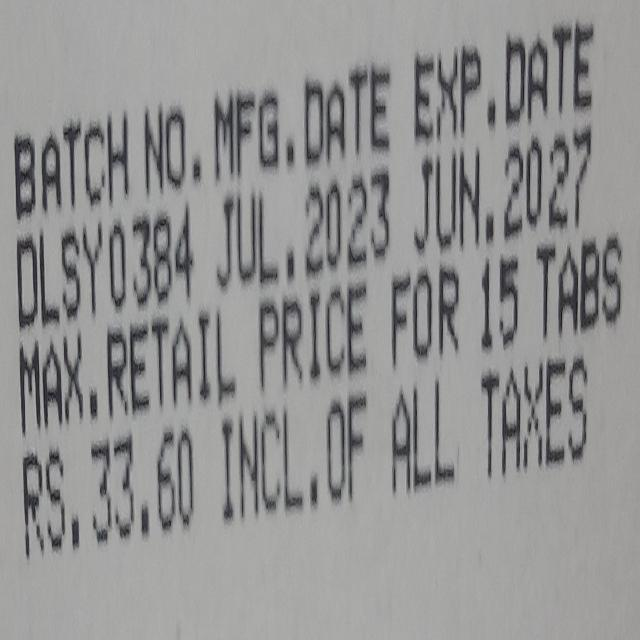sentence: (18, 120, 592, 355), (20, 235, 621, 435), (14, 20, 592, 225), (21, 360, 588, 560)
